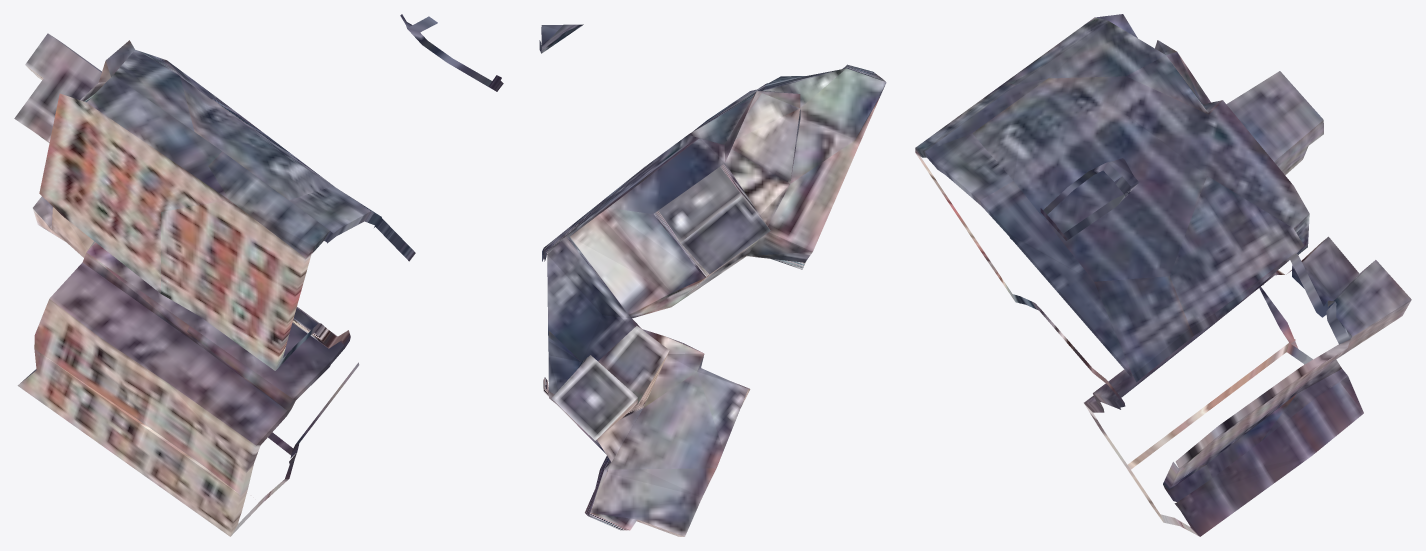
3 renders of one model, left to right at view 1: azimuth 30°, elevation 25°; view 2: azimuth 150°, elevation 25°; view 3: azimuth 270°, elevation 25°, orthographic. The views are drawn at different scales.
Size of the model in its own units: 37.31 by 45.29 by 46.33.
Materials: 1 (1 with a texture image).
